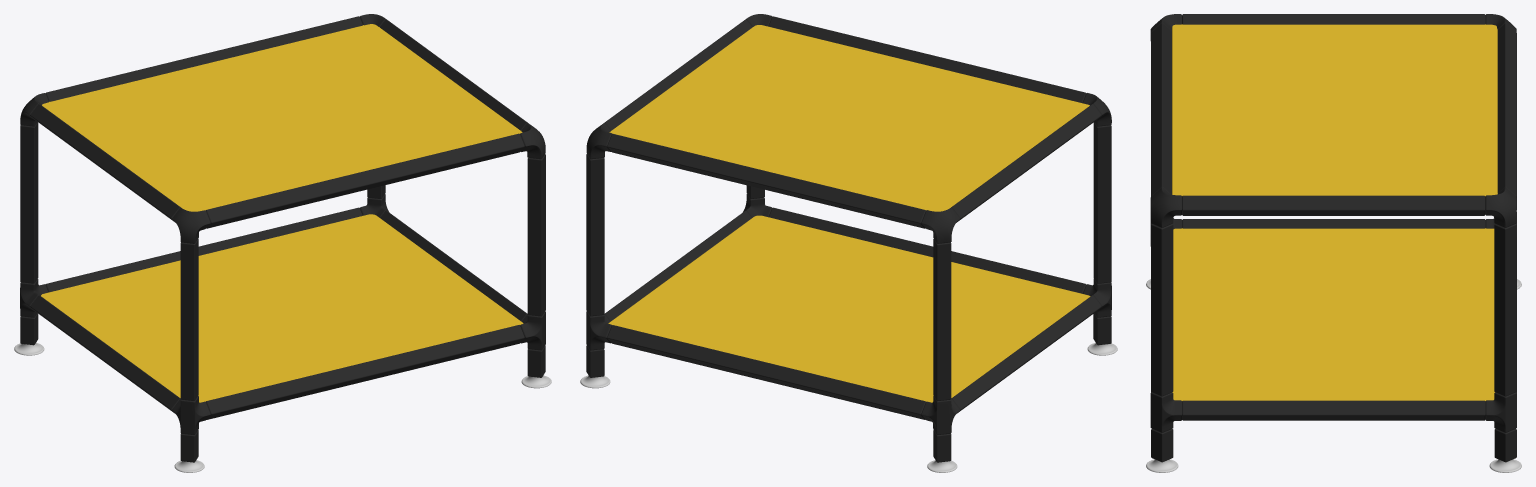
3 renders of one model, left to right at view 1: azimuth 30°, elevation 25°; view 2: azimuth 150°, elevation 25°; view 3: azimuth 270°, elevation 25°, orthographic. The views are drawn at different scales.
Parts seen in each view (by area): view 1: 479x374x229; view 2: 479x374x229; view 3: 479x374x229.
Boxes of the visible parts, <box> form: 479x374x229: <box>14,14,551,472</box>; 479x374x229: <box>580,14,1117,472</box>; 479x374x229: <box>1146,14,1521,472</box>.
Size of the model in its own units: 0.5689 by 0.3683 by 0.4632.
